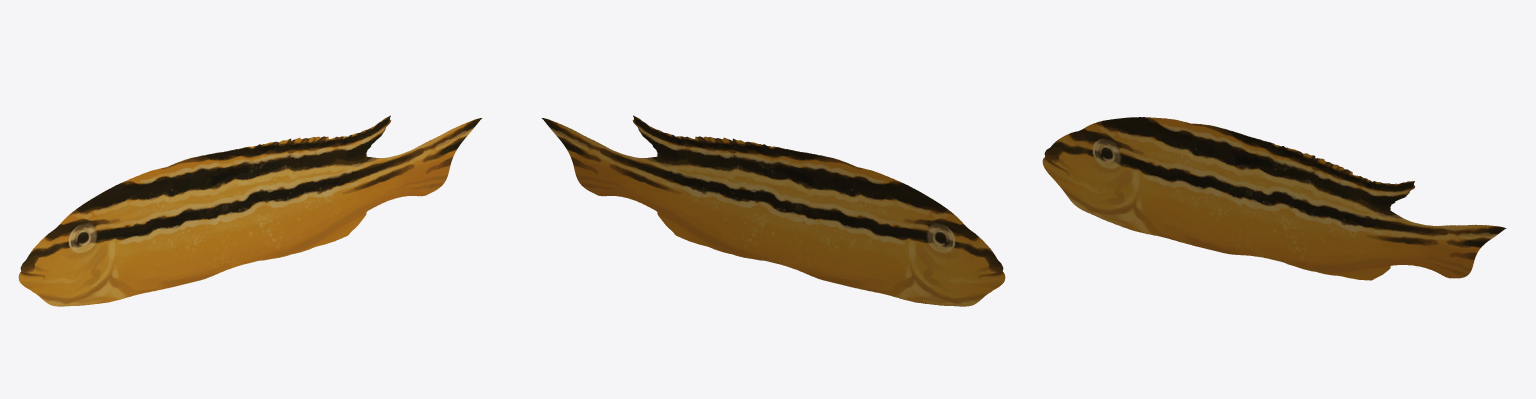
The model's file is Small_Fish_Wide.FBX.
3 views of the same model, side by side, from view 1: azimuth 30°, elevation 25°; view 2: azimuth 150°, elevation 25°; view 3: azimuth 330°, elevation 25° (orthographic).
Parts seen in each view (by area): view 1: Fish_wide; view 2: Fish_wide; view 3: Fish_wide.
Part boxes in pixels (box(x1,y1,x2,y2)): Fish_wide: box(18, 115, 482, 306); Fish_wide: box(541, 115, 1005, 306); Fish_wide: box(1042, 117, 1506, 280).
Bounding box in the file's own units: 30 × 15 × 6.56e-07.
